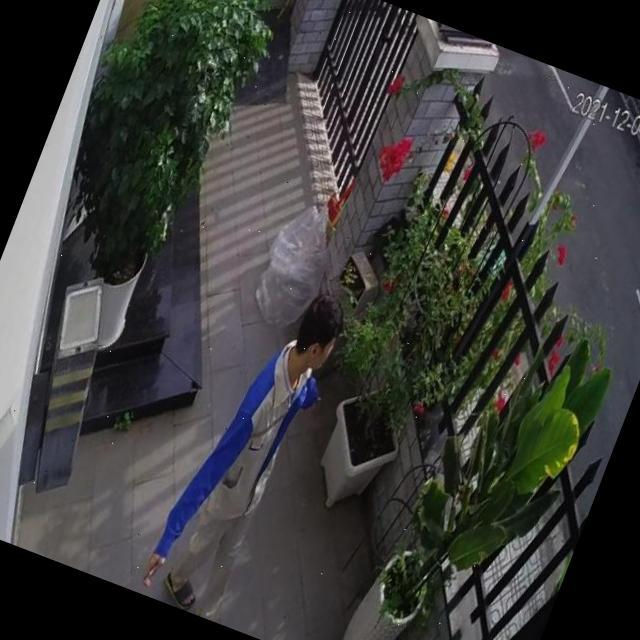person: (135, 264, 358, 629)
